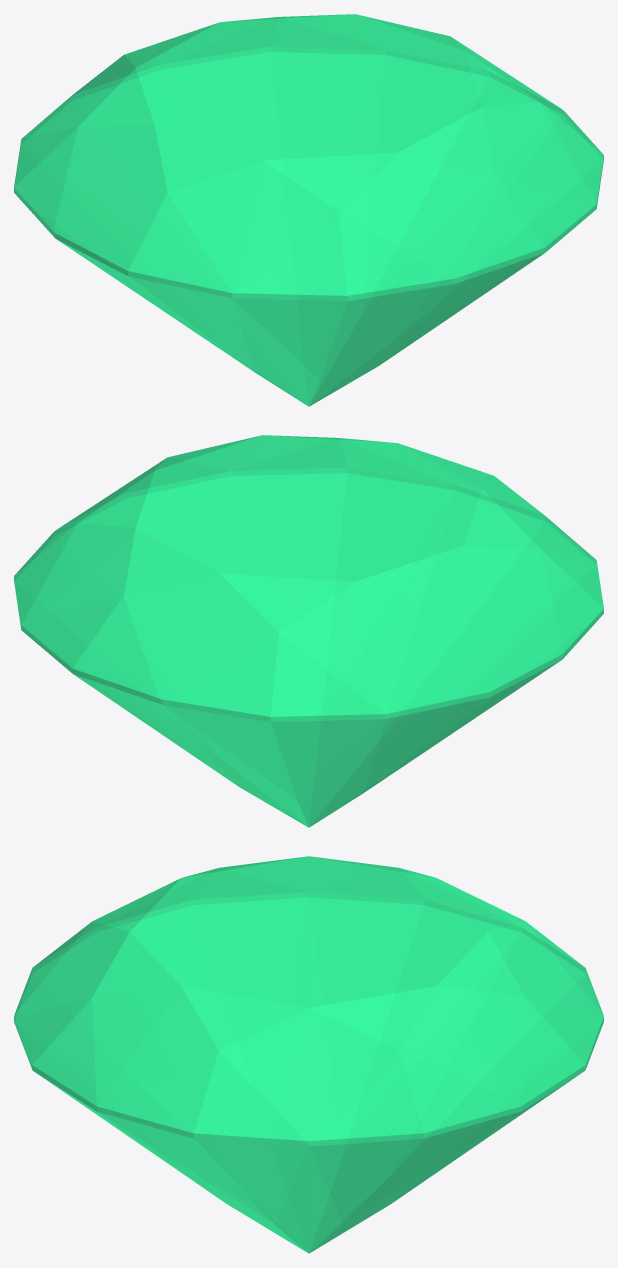
The model's file is round peridot.glb.
3 renders of one model, top to bottom at view 1: azimuth 30°, elevation 25°; view 2: azimuth 150°, elevation 25°; view 3: azimuth 270°, elevation 25°, orthographic.
Parts seen in each view (by area): view 1: White_1_11.008; view 2: White_1_11.008; view 3: White_1_11.008.
Part boxes in pixels (x1,y1,x2,y2): White_1_11.008: (14,14,603,406); White_1_11.008: (14,435,603,827); White_1_11.008: (14,856,603,1253).
Size of the model in its own units: 1.75 by 1.05 by 1.75.
